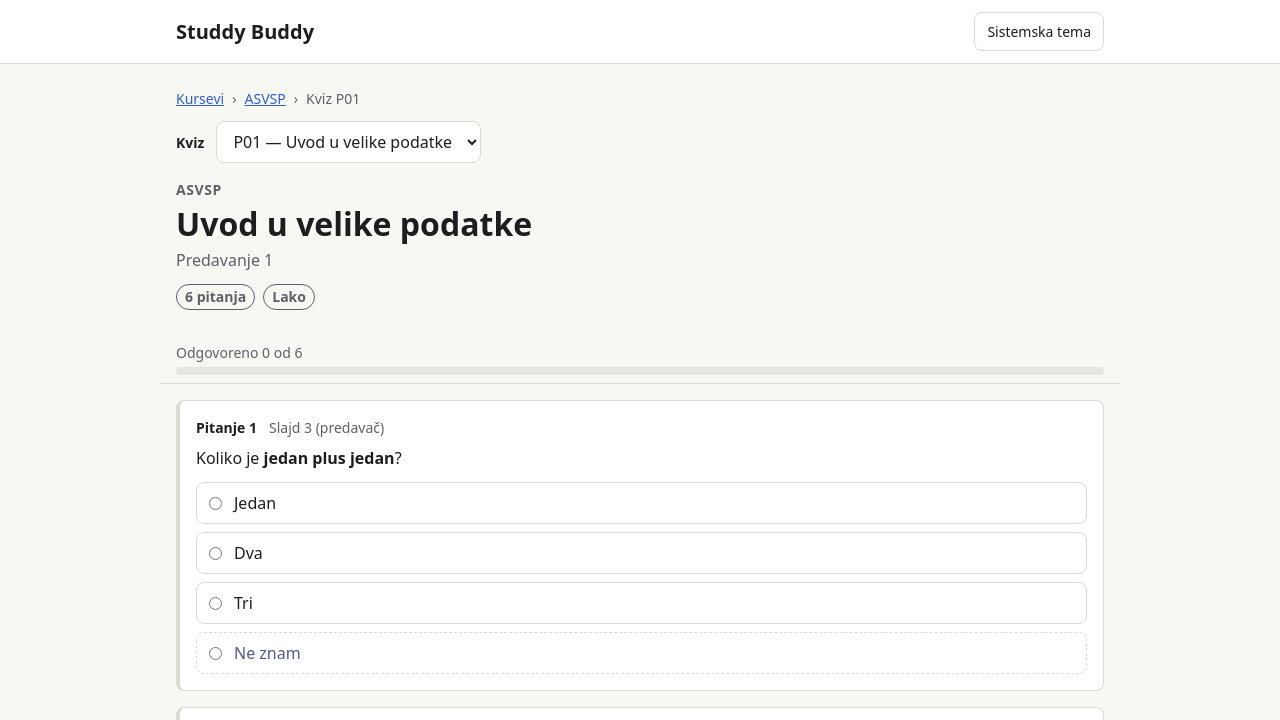
Test case: QuizPage player › submit › shows the validation details of a 400
Expected: the heading "Uvod u velike podatke" is shown, [176, 202, 532, 245]
What coordinates should you click on to do the following:
click the radio button labelled "Dva"
I would click on:
 (216, 553)
Its box is [209, 546, 222, 560].
(page scrolled)
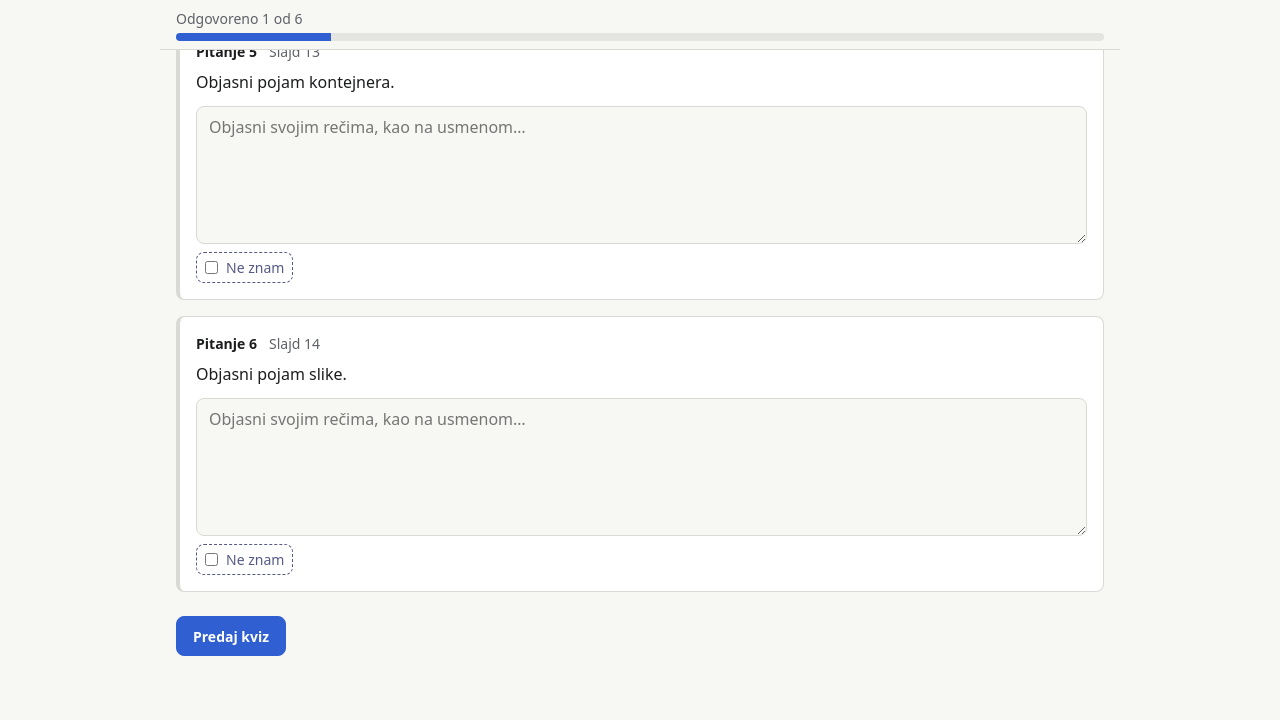
What coordinates should you click on to do the following:
click the button "Predaj kviz"
I would click on:
 (231, 636)
Its box is [176, 616, 286, 656].
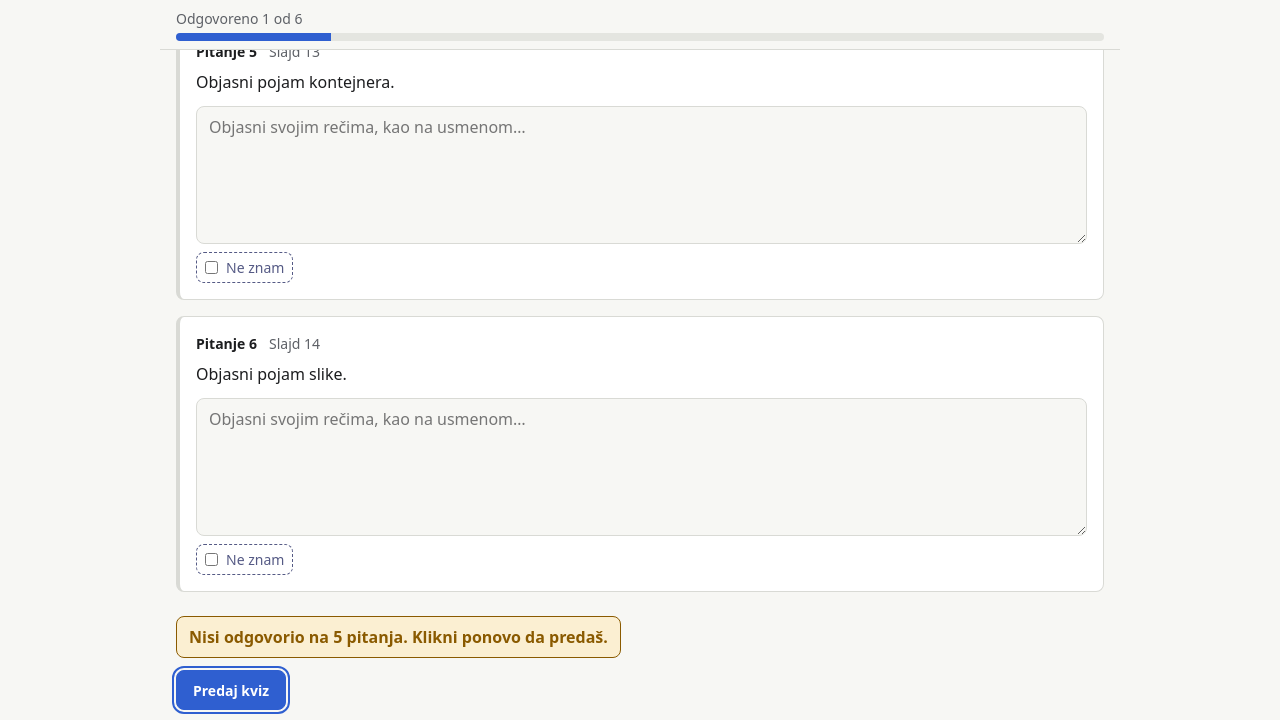
What coordinates should you click on to do the following:
click the button "Predaj kviz"
I would click on:
 (231, 690)
Its box is [176, 670, 286, 710].
(page scrolled)
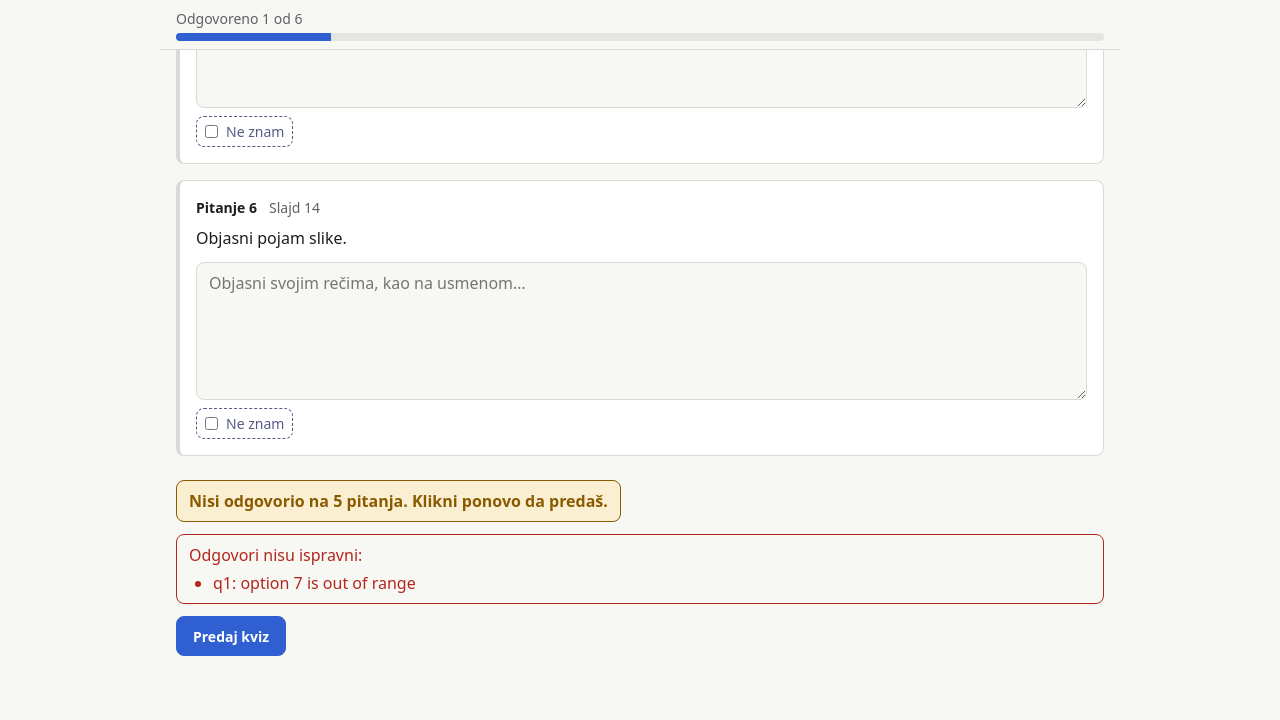
Expected: the list item "q1: option 7 is out of range" is shown, [213, 572, 416, 594]
